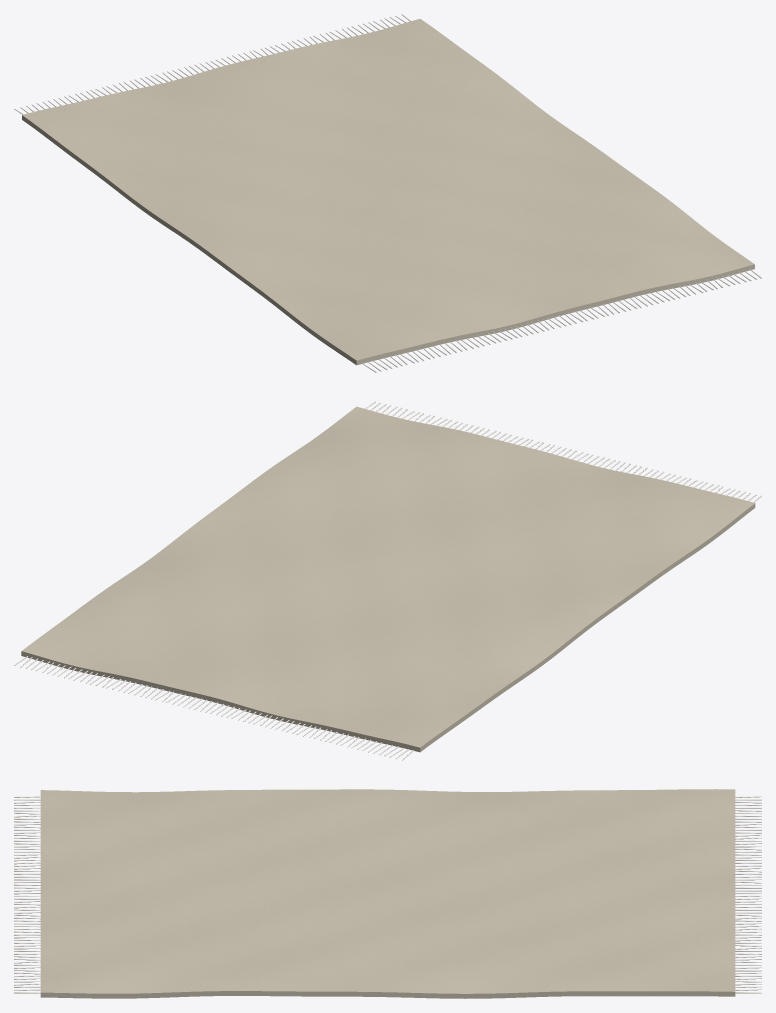
File: kowhai-hero-liv-04.glb
The picture shows the model from 3 angles, top to bottom: view 1: azimuth 30°, elevation 25°; view 2: azimuth 150°, elevation 25°; view 3: azimuth 270°, elevation 25°; orthographic projection. The views are drawn at different scales.
Visible parts, largest first — view 1: Rug_WovenBoucleBody; view 2: Rug_WovenBoucleBody; view 3: Rug_WovenBoucleBody.
Part boxes in pixels (x1,y1,x2,y2): Rug_WovenBoucleBody: [22, 18, 754, 365]; Rug_WovenBoucleBody: [21, 406, 755, 752]; Rug_WovenBoucleBody: [40, 789, 735, 998].
Bounding box in the file's own units: 1.58 × 0.0317 × 2.48.
2 materials, 1 textured.
